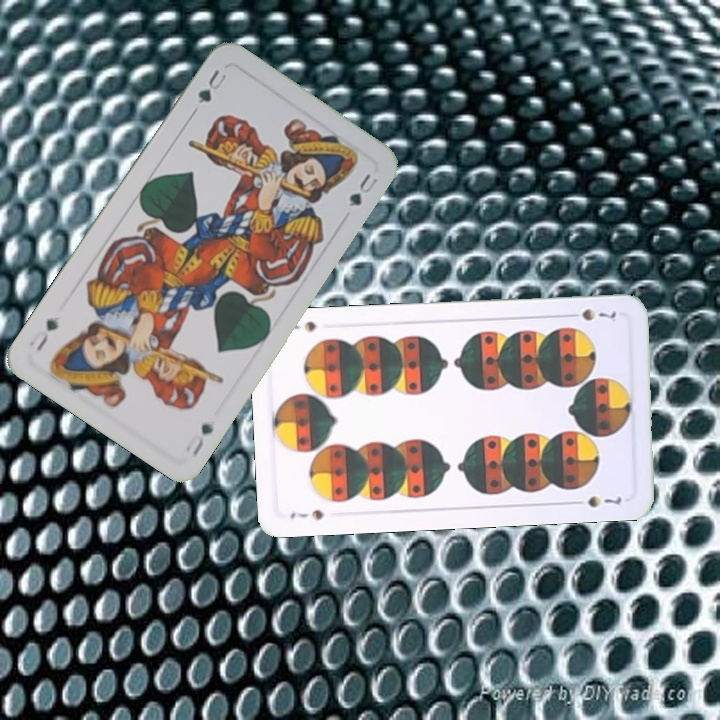GU: (193, 65, 230, 106), (181, 419, 216, 460)
S7: (563, 305, 619, 324), (286, 505, 326, 522)
